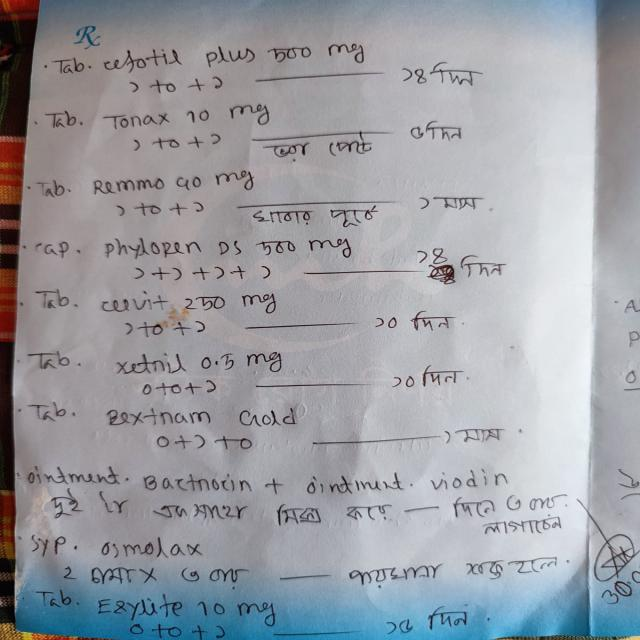Bactrocin: (133, 464, 267, 507)
Bextram Gold: (103, 400, 311, 434)
Cefotil Plus: (93, 41, 259, 76)
Cevit: (91, 288, 177, 318)
Ezylife: (89, 588, 193, 624)
Osmolax: (91, 533, 214, 567)
Phylopen DS: (96, 231, 253, 264)
Torax: (95, 104, 182, 137)
Viodin: (420, 466, 520, 498)
Xetril: (106, 349, 199, 379)
remmo: (83, 171, 171, 200)
